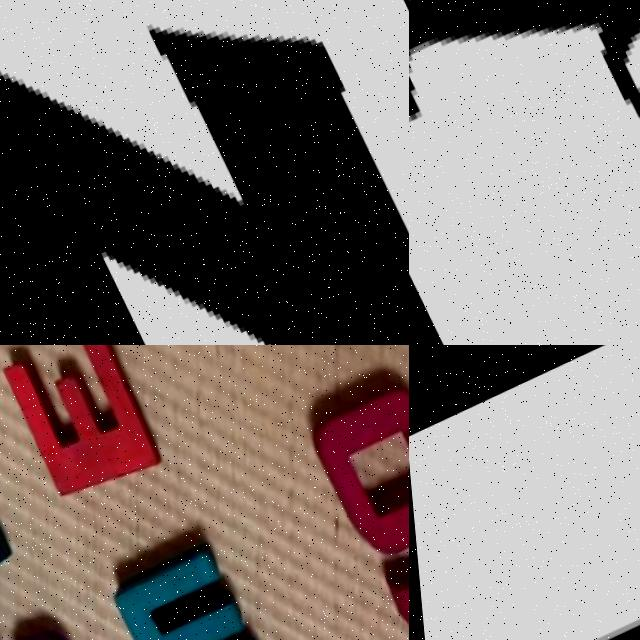1: (416, 374, 640, 640)
D: (409, 0, 640, 345)
E: (0, 345, 158, 513)
M: (101, 549, 266, 640)
O: (292, 380, 409, 570)
Z: (0, 0, 409, 345)
